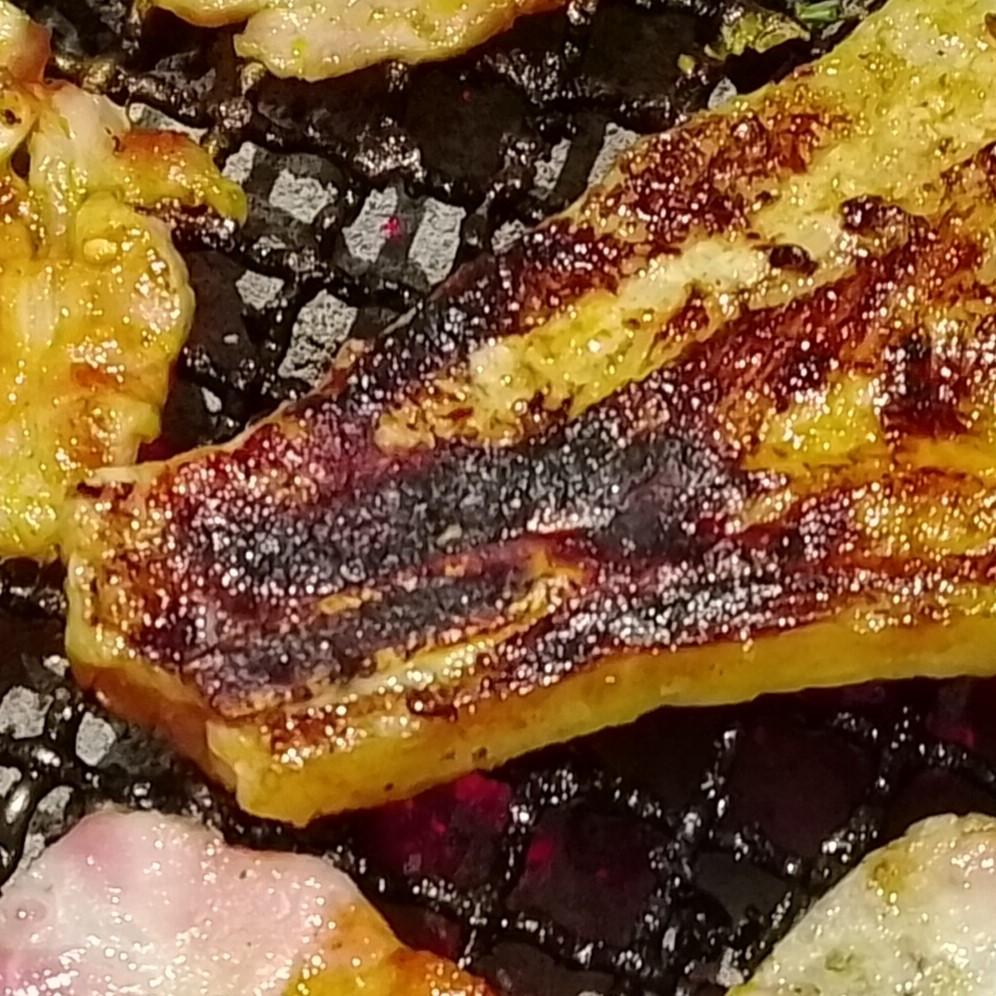Overcooked: (62, 0, 995, 825)
